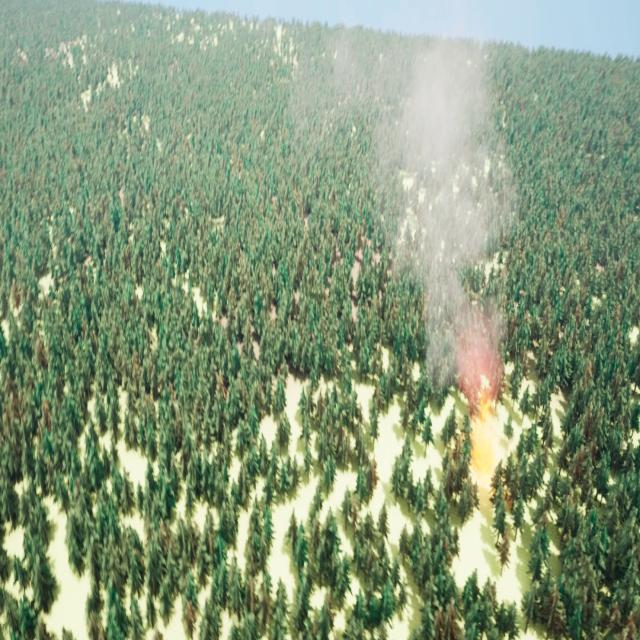fire: (468, 370, 508, 480)
smoke: (279, 0, 518, 389)
